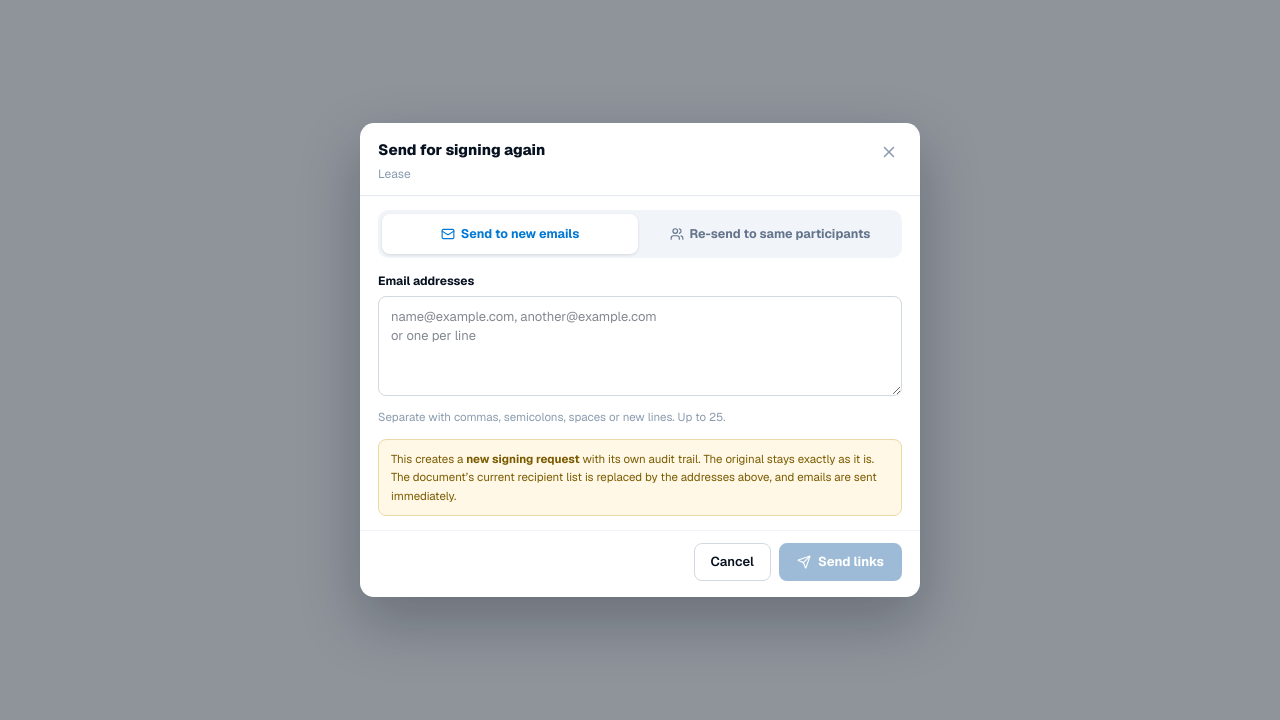
Test: ResendSigningDialog › refuses to send when nobody left can act
The image size is (1280, 720).
What coordinates should you click on to do the following:
click the tab "Re-send to same participants"
I would click on:
 (770, 234)
Its box is top-left (642, 214), bottom-right (898, 254).
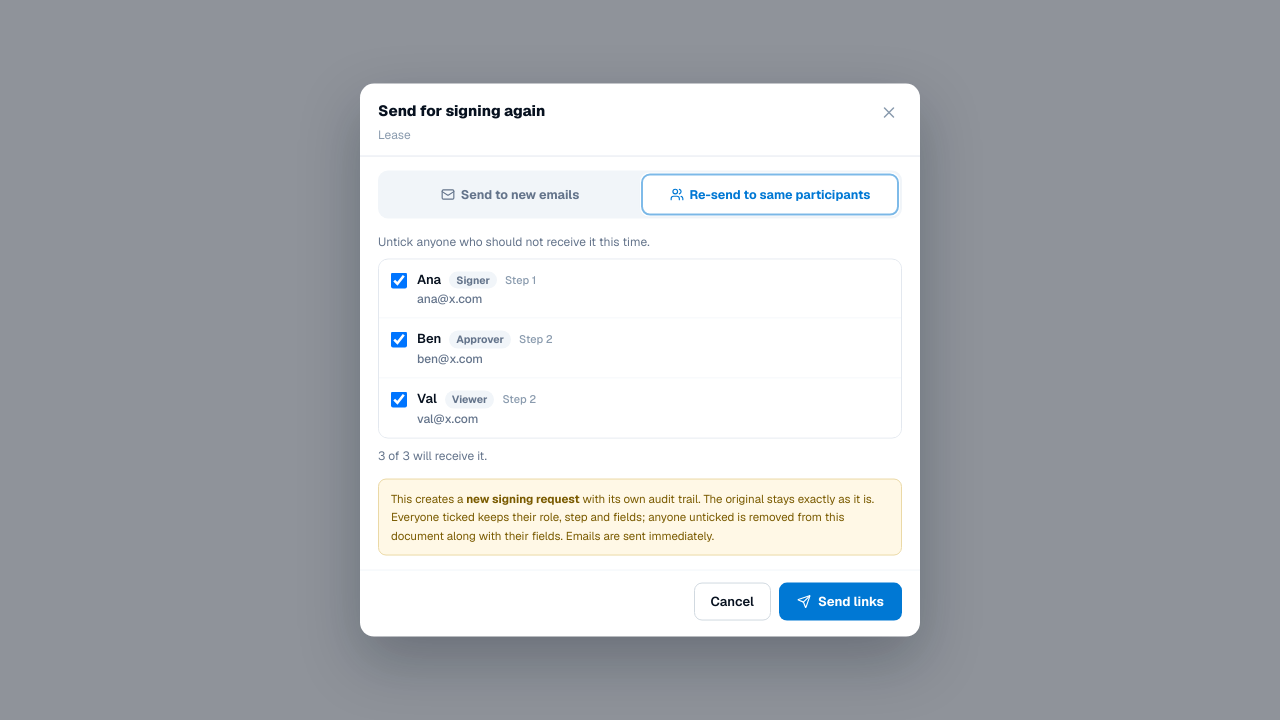
What coordinates should you click on to do the following:
click the checkbox named "Include Ana"
I would click on:
 (399, 280)
Its box is top-left (391, 272), bottom-right (407, 288).
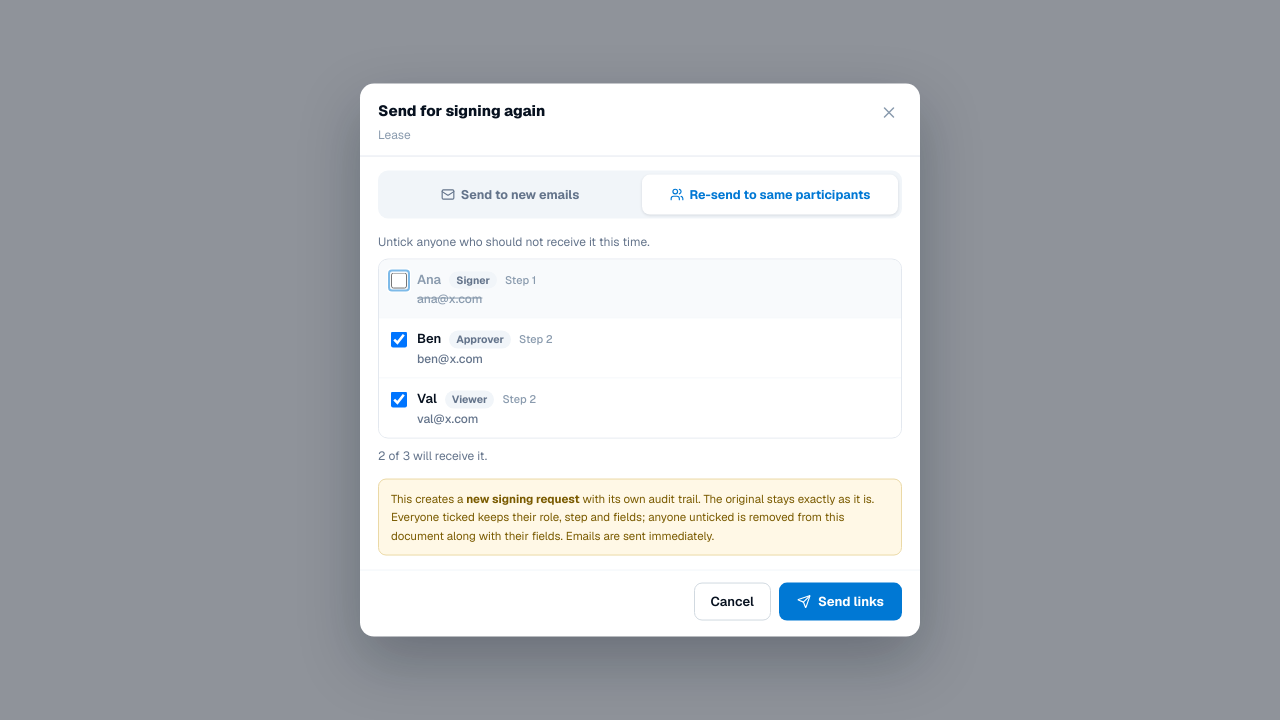
What coordinates should you click on to do the following:
click the checkbox named "Include Ben"
I would click on:
 (399, 340)
Its box is top-left (391, 332), bottom-right (407, 348).
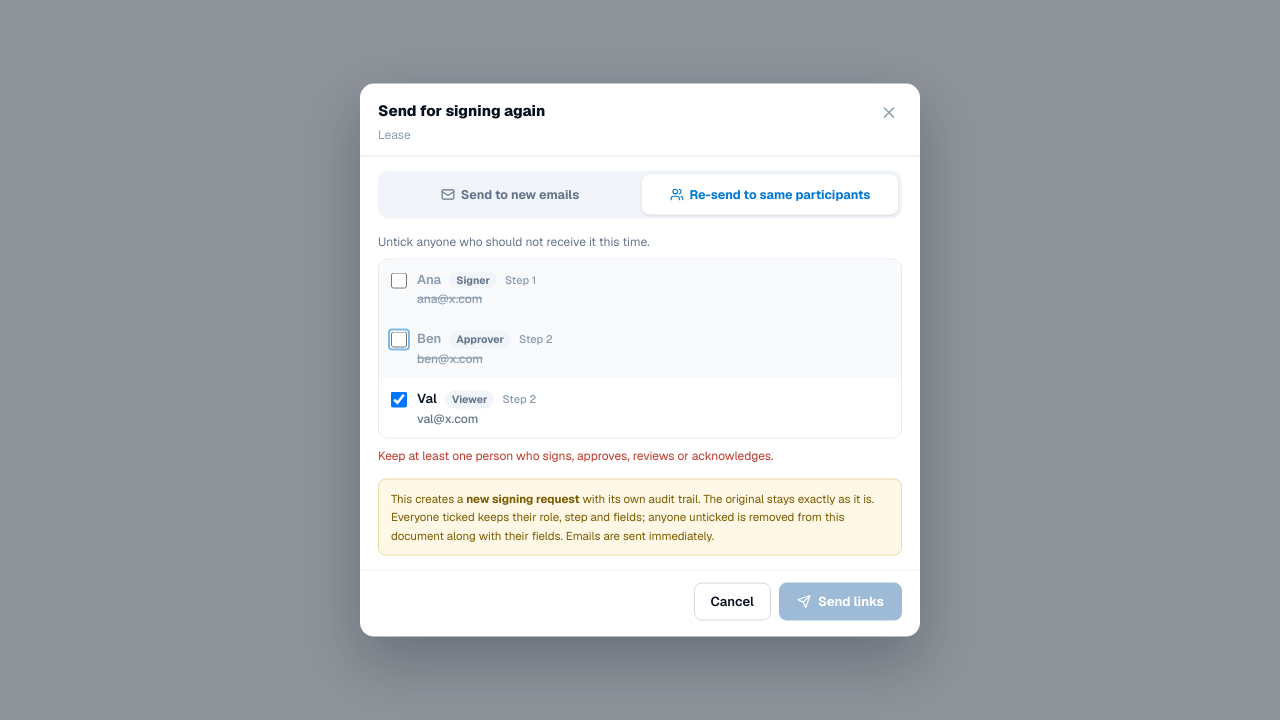
Check: the text "Keep at least one person who signs, approves, reviews or acknowledges." is shown, box top-left (378, 447), bottom-right (774, 463)
Check: the button "Send links" is disabled, box top-left (779, 582), bottom-right (902, 620)
